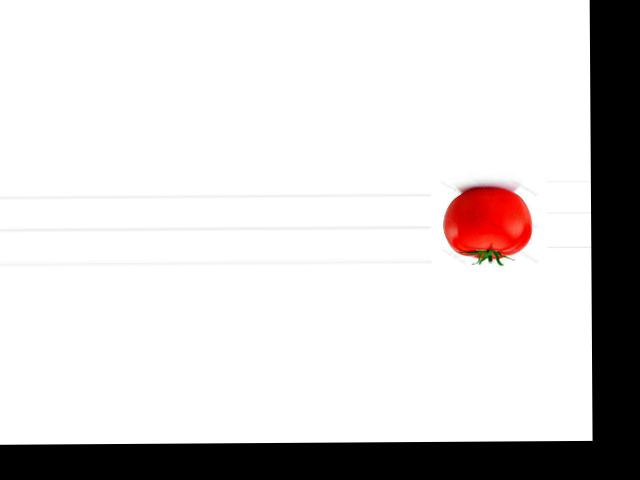tomato: (443, 189, 532, 258)
